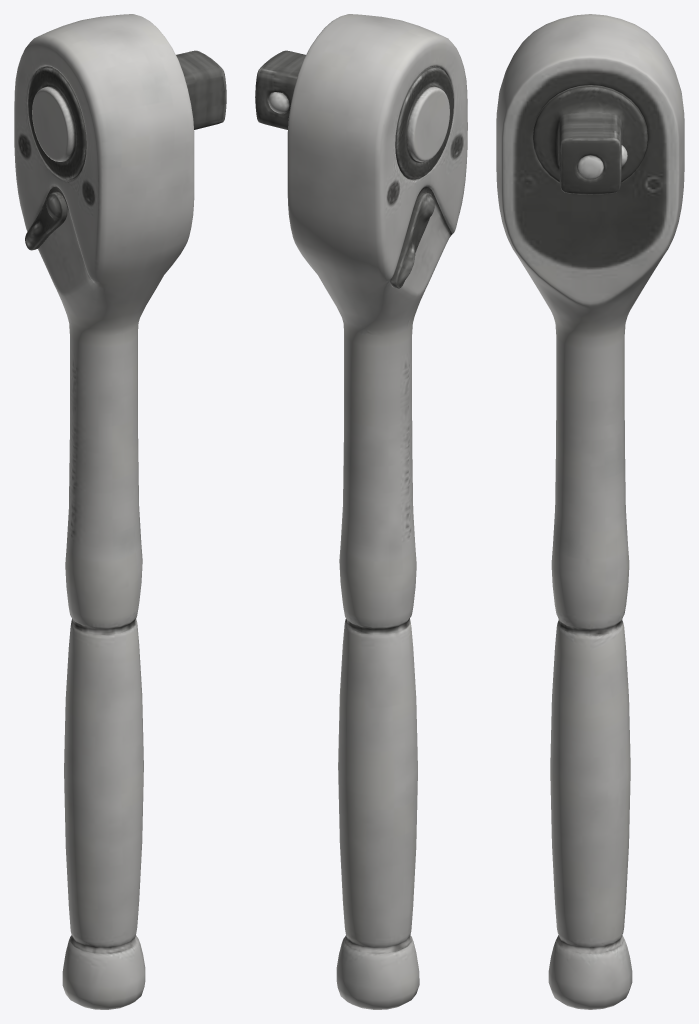
3 views of the same model, side by side, from view 1: azimuth 30°, elevation 25°; view 2: azimuth 150°, elevation 25°; view 3: azimuth 270°, elevation 25° (orthographic).
Parts seen in each view (by area): view 1: ratchet_wrench; view 2: ratchet_wrench; view 3: ratchet_wrench.
Boxes of the visible parts, x1,y1,x2,y2 form: ratchet_wrench: (14, 14, 226, 1009); ratchet_wrench: (255, 14, 467, 1009); ratchet_wrench: (496, 14, 684, 1009).
Bounding box in the file's own units: 0.0441 × 0.2462 × 0.0434.
1 material, 1 textured.
